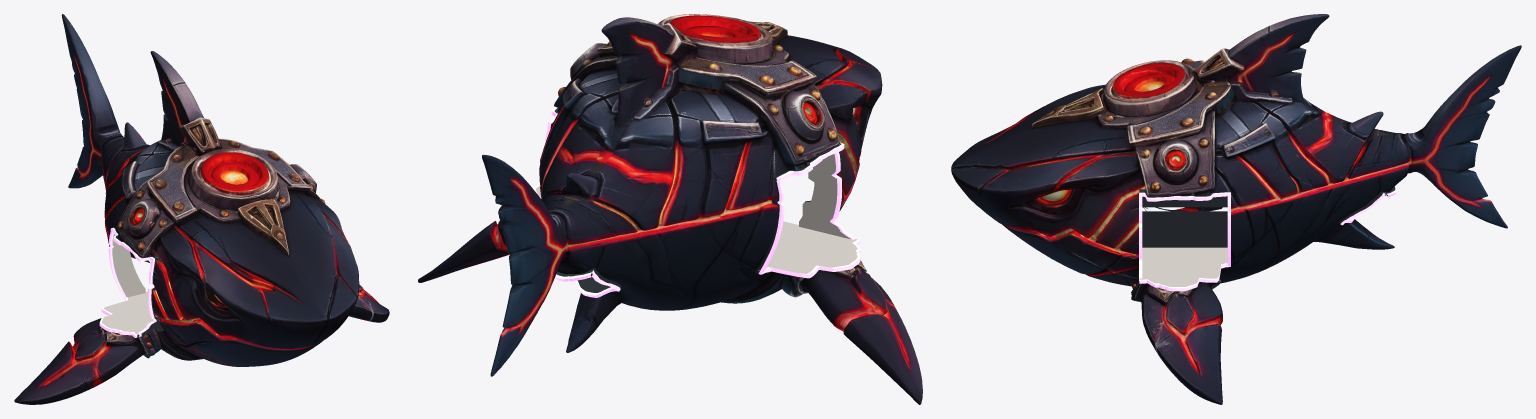
The model's file is Metal Shark doors.glb.
3 renders of one model, left to right at view 1: azimuth 30°, elevation 25°; view 2: azimuth 150°, elevation 25°; view 3: azimuth 270°, elevation 25°, orthographic. The views are drawn at different scales.
Bounding box in the file's own units: 1.55 × 1.07 × 1.9.
Materials: 5 (1 with a texture image).
